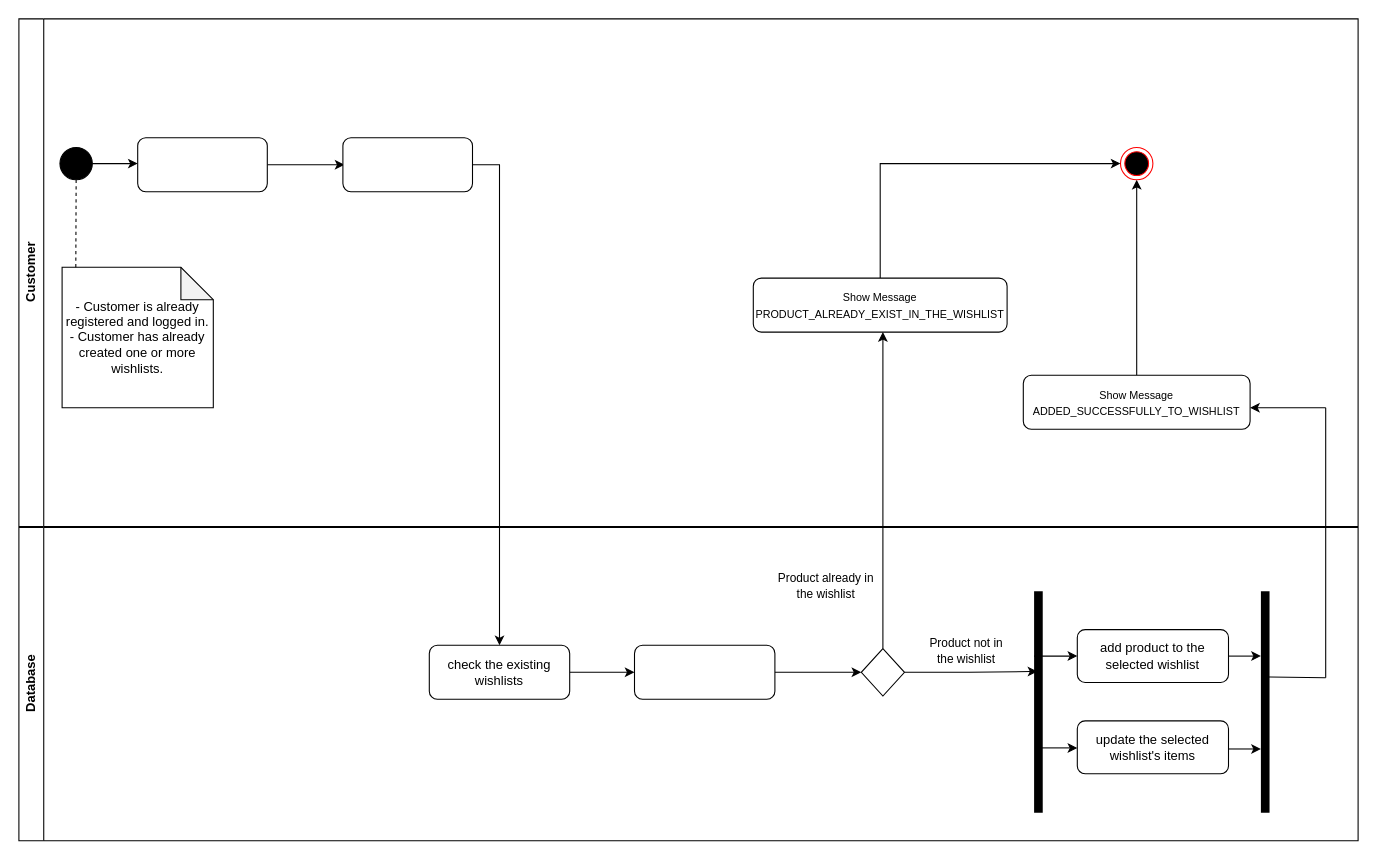
This 1377x860 diagram has some shape labels left out. The shapes that lost their labels are listed below. From the top down, each one's centre as x and y in pixels, then its label:
point (202, 164): view product page
point (407, 164): click on "Add to a wishlist" button
point (704, 671): check products in the selected wishlist
